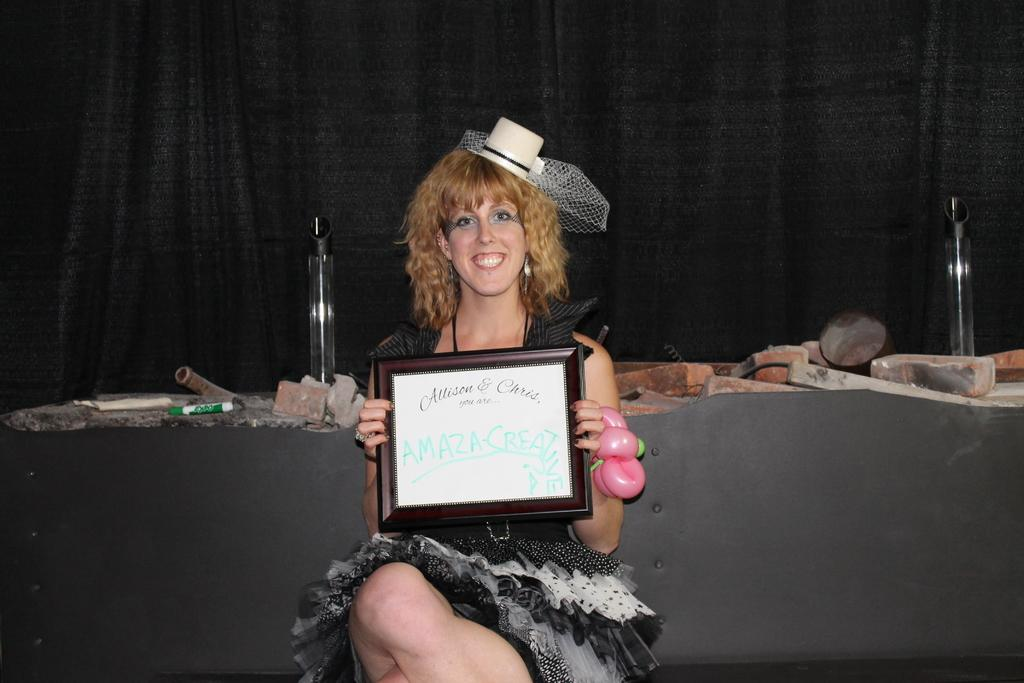Hat: (466, 116, 543, 187)
